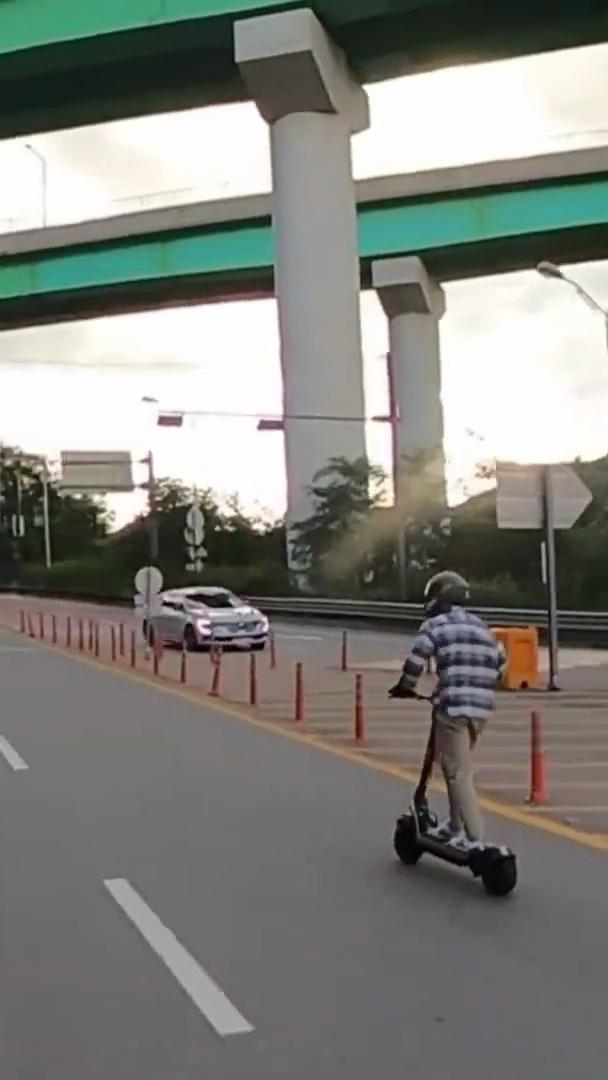helmet: (378, 565, 525, 897)
